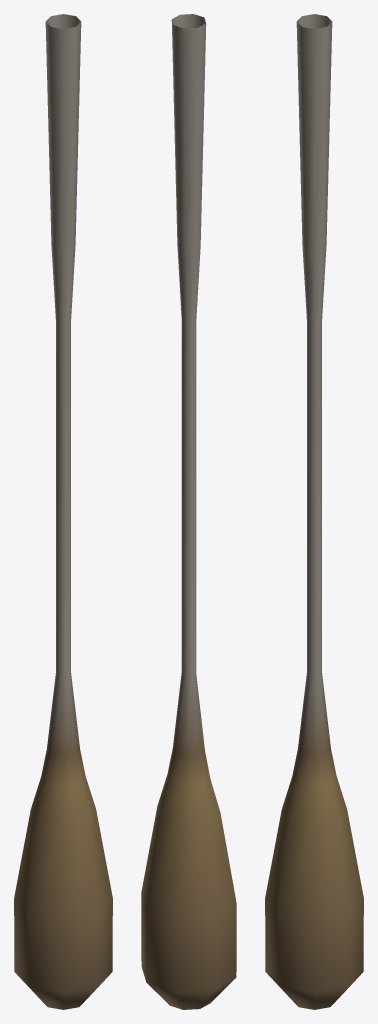
3 views of the same model, side by side, from view 1: azimuth 90°, elevation 25°; view 2: azimuth 210°, elevation 25°; view 3: azimuth 270°, elevation 25° (orthographic).
Visible parts, largest first — view 1: base.710; view 2: base.710; view 3: base.710.
Part boxes in pixels (x1,y1,x2,y2): base.710: (14, 14, 112, 1009); base.710: (141, 14, 236, 1009); base.710: (265, 14, 363, 1009).
Bounding box in the file's own units: 0.0456 × 0.5 × 0.0456.
